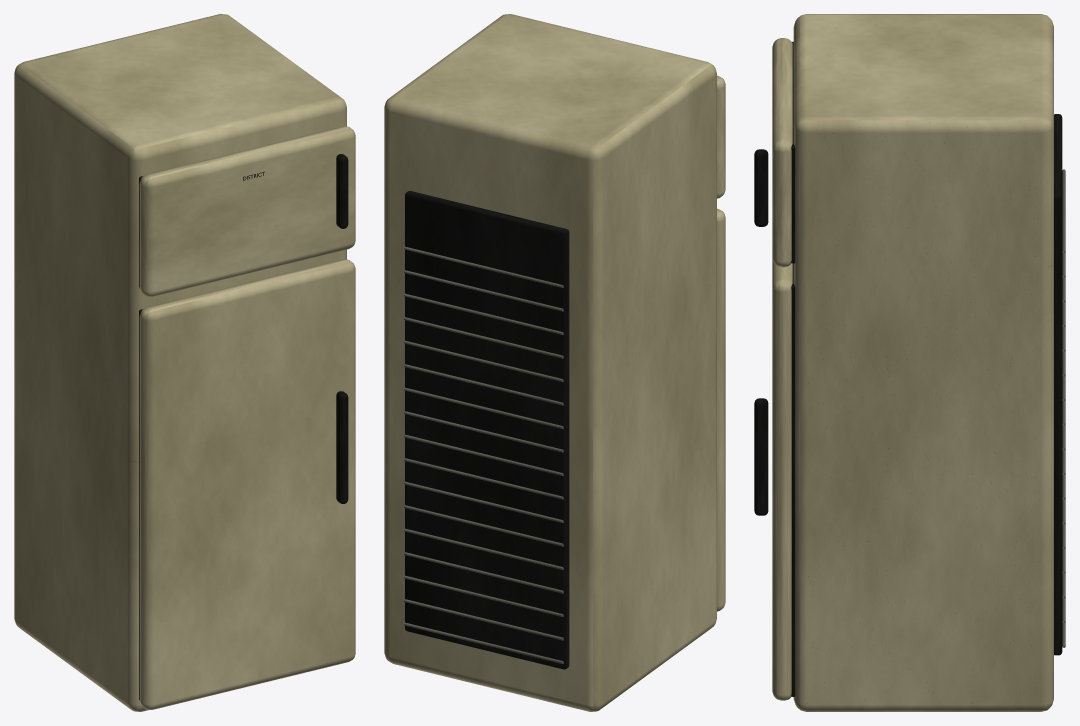
Rendered from fridge.glb.
The picture shows the model from 3 angles, left to right: view 1: azimuth 30°, elevation 25°; view 2: azimuth 150°, elevation 25°; view 3: azimuth 270°, elevation 25°; orthographic projection. The views are drawn at different scales.
Parts seen in each view (by area): view 1: Refrigerator insulated shell, Refrigerator enamel door, Freezer enamel door, Refrigerator pull handle, Freezer pull handle; view 2: Refrigerator insulated shell, Condenser frame, Refrigerator enamel door, Freezer enamel door, Condenser cooling tube.001, Condenser cooling tube.003, Condenser cooling tube.005, Condenser cooling tube.007, Condenser cooling tube.009, Condenser cooling tube.011, Condenser cooling tube.013, Condenser cooling tube.015 (+9 smaller); view 3: Refrigerator insulated shell, Refrigerator enamel door, Condenser frame, Freezer enamel door, Refrigerator black rubber gasket, Refrigerator pull handle, Freezer pull handle, Freezer black rubber gasket.
Boxes of the visible parts, left/top/right/bottom form: Refrigerator insulated shell: left=14, top=14, right=346, bottom=711; Refrigerator enamel door: left=139, top=259, right=355, bottom=709; Freezer enamel door: left=139, top=126, right=355, bottom=296; Refrigerator pull handle: left=336, top=391, right=348, bottom=503; Freezer pull handle: left=336, top=154, right=348, bottom=228; Refrigerator insulated shell: left=384, top=14, right=716, bottom=711; Condenser frame: left=405, top=191, right=569, bottom=669; Refrigerator enamel door: left=717, top=208, right=725, bottom=611; Freezer enamel door: left=717, top=75, right=725, bottom=198; Condenser cooling tube.001: left=404, top=599, right=563, bottom=640; Condenser cooling tube.003: left=404, top=552, right=563, bottom=593; Condenser cooling tube.005: left=404, top=505, right=563, bottom=546; Condenser cooling tube.007: left=404, top=458, right=563, bottom=499; Condenser cooling tube.009: left=404, top=411, right=563, bottom=452; Condenser cooling tube.011: left=404, top=364, right=563, bottom=405; Condenser cooling tube.013: left=404, top=317, right=563, bottom=358; Condenser cooling tube.015: left=404, top=270, right=563, bottom=311; Refrigerator insulated shell: left=793, top=14, right=1053, bottom=711; Refrigerator enamel door: left=772, top=259, right=792, bottom=700; Condenser frame: left=1054, top=114, right=1062, bottom=655; Freezer enamel door: left=772, top=38, right=792, bottom=267; Refrigerator black rubber gasket: left=791, top=263, right=795, bottom=696; Refrigerator pull handle: left=754, top=398, right=768, bottom=515; Freezer pull handle: left=754, top=149, right=768, bottom=226; Freezer black rubber gasket: left=791, top=41, right=795, bottom=263.
Bounding box in the file's own units: 0.66 × 1.64 × 0.7775.
Materials: 3 (3 with a texture image).
